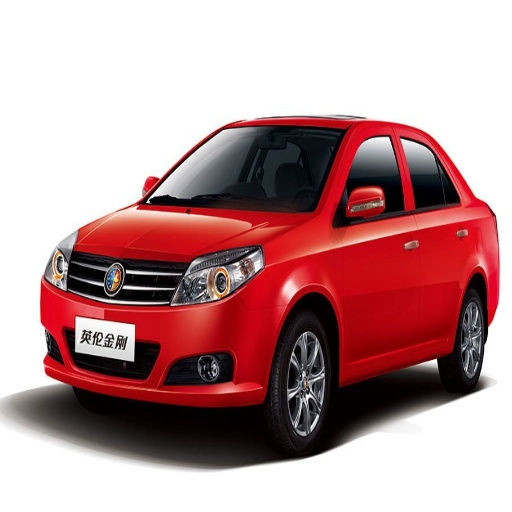front_bumper: (40, 248, 289, 402)
front_glass: (140, 128, 346, 211)
front_left_door: (333, 130, 419, 369)
